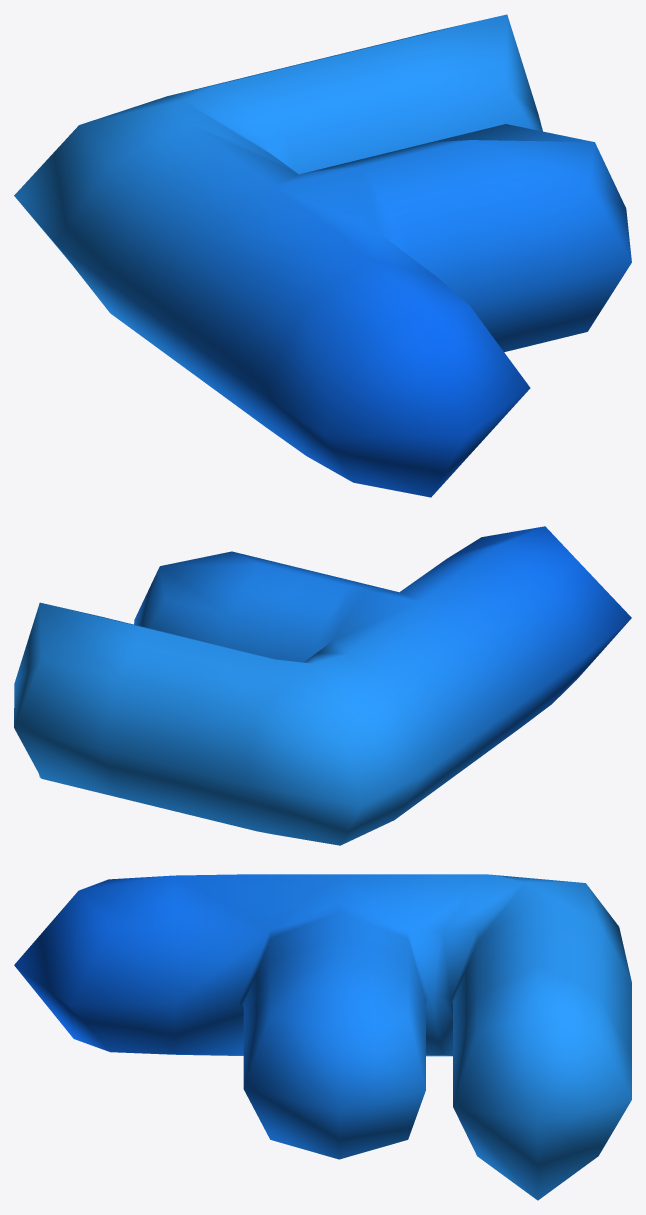
The model's file is CartoonFont_F.FBX.
3 views of the same model, one above another, from view 1: azimuth 30°, elevation 25°; view 2: azimuth 150°, elevation 25°; view 3: azimuth 270°, elevation 25° (orthographic). The views are drawn at different scales.
Parts seen in each view (by area): view 1: F; view 2: F; view 3: F.
Part boxes in pixels (box(x1,y1,x2,y2)): F: box(14, 14, 631, 497); F: box(14, 526, 631, 845); F: box(14, 874, 631, 1200).
Size of the model in its own units: 23.97 by 10.01 by 30.82.
Materials: 1 (1 with a texture image).
